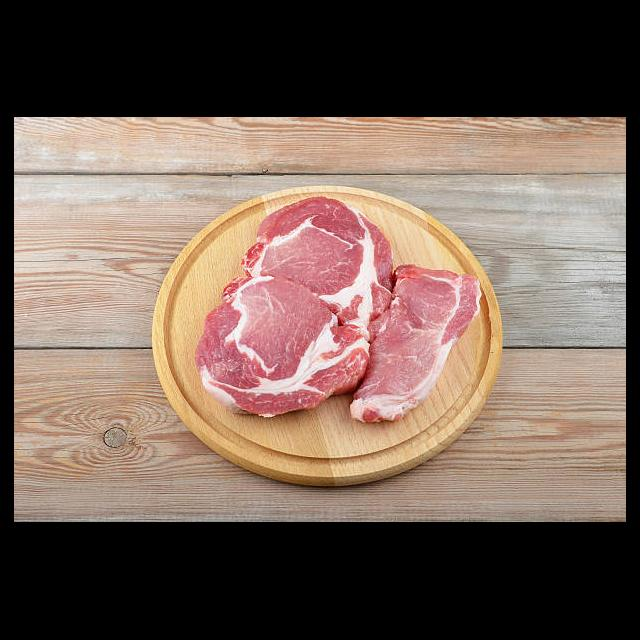beef: (192, 189, 394, 435), (350, 267, 482, 421)
